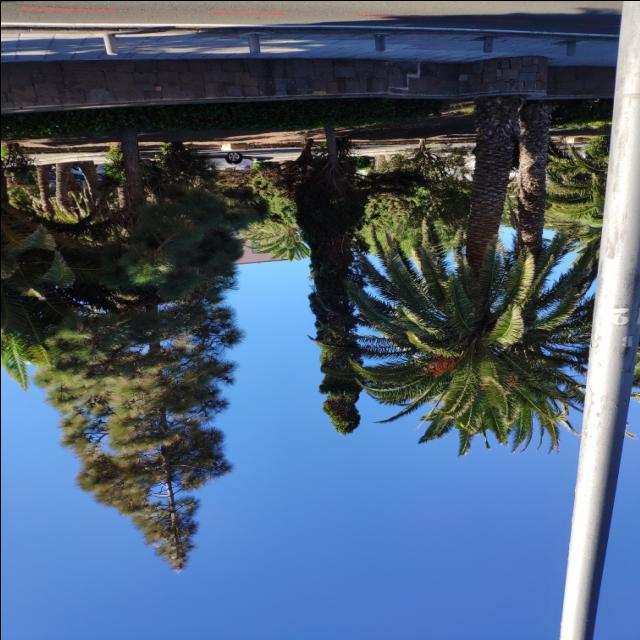Palm-Trees: (357, 95, 593, 443)
